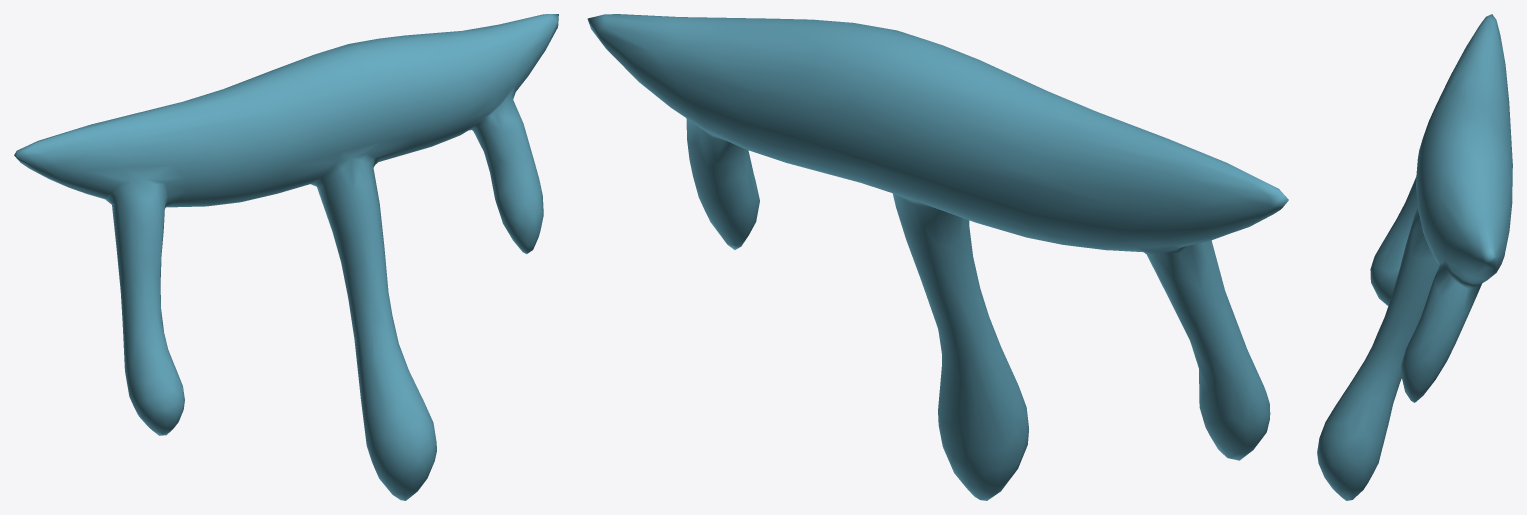
The model's file is Sap_5_d9bc0547.fbx.
3 renders of one model, left to right at view 1: azimuth 30°, elevation 25°; view 2: azimuth 150°, elevation 25°; view 3: azimuth 270°, elevation 25°, orthographic. The views are drawn at different scales.
Parts seen in each view (by area): view 1: BlueSap_E_ThreeBeads; view 2: BlueSap_E_ThreeBeads; view 3: BlueSap_E_ThreeBeads.
Part boxes in pixels (<box>): BlueSap_E_ThreeBeads: <box>14,14,558,500</box>; BlueSap_E_ThreeBeads: <box>587,14,1288,500</box>; BlueSap_E_ThreeBeads: <box>1317,14,1512,500</box>.
Bounding box in the file's own units: 81.9 × 57.94 × 27.26.
